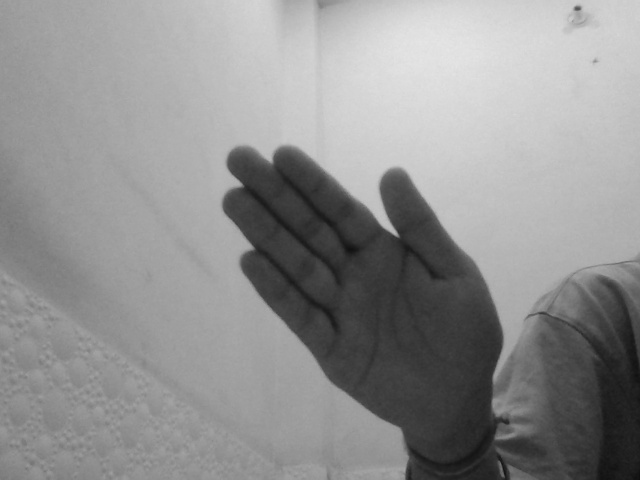Hello: (214, 140, 511, 450)
